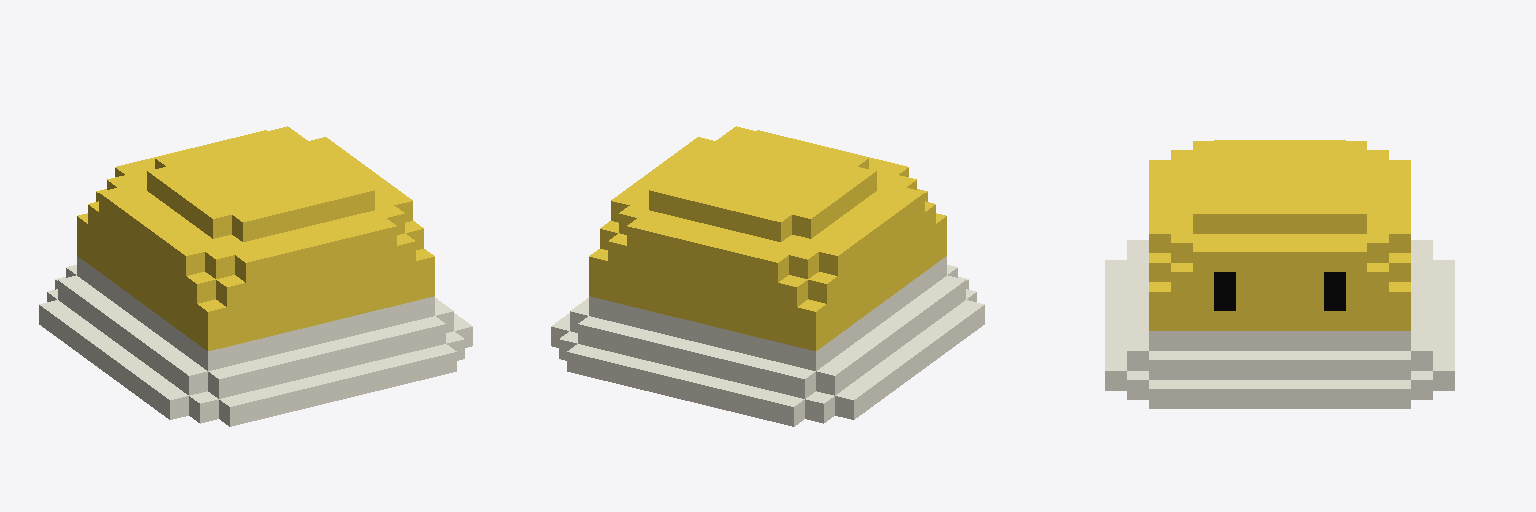
3 views of the same model, side by side, from view 1: azimuth 30°, elevation 25°; view 2: azimuth 150°, elevation 25°; view 3: azimuth 270°, elevation 25° (orthographic).
Visible parts, largest first — view 1: object 1; view 2: object 1; view 3: object 1.
Part boxes in pixels (left/top/right/bottom): object 1: left=39, top=126, right=472, bottom=426; object 1: left=551, top=126, right=984, bottom=426; object 1: left=1105, top=140, right=1454, bottom=408.
Size of the model in its own units: 1.6 by 0.8 by 1.6.
1 materials, 1 textured.